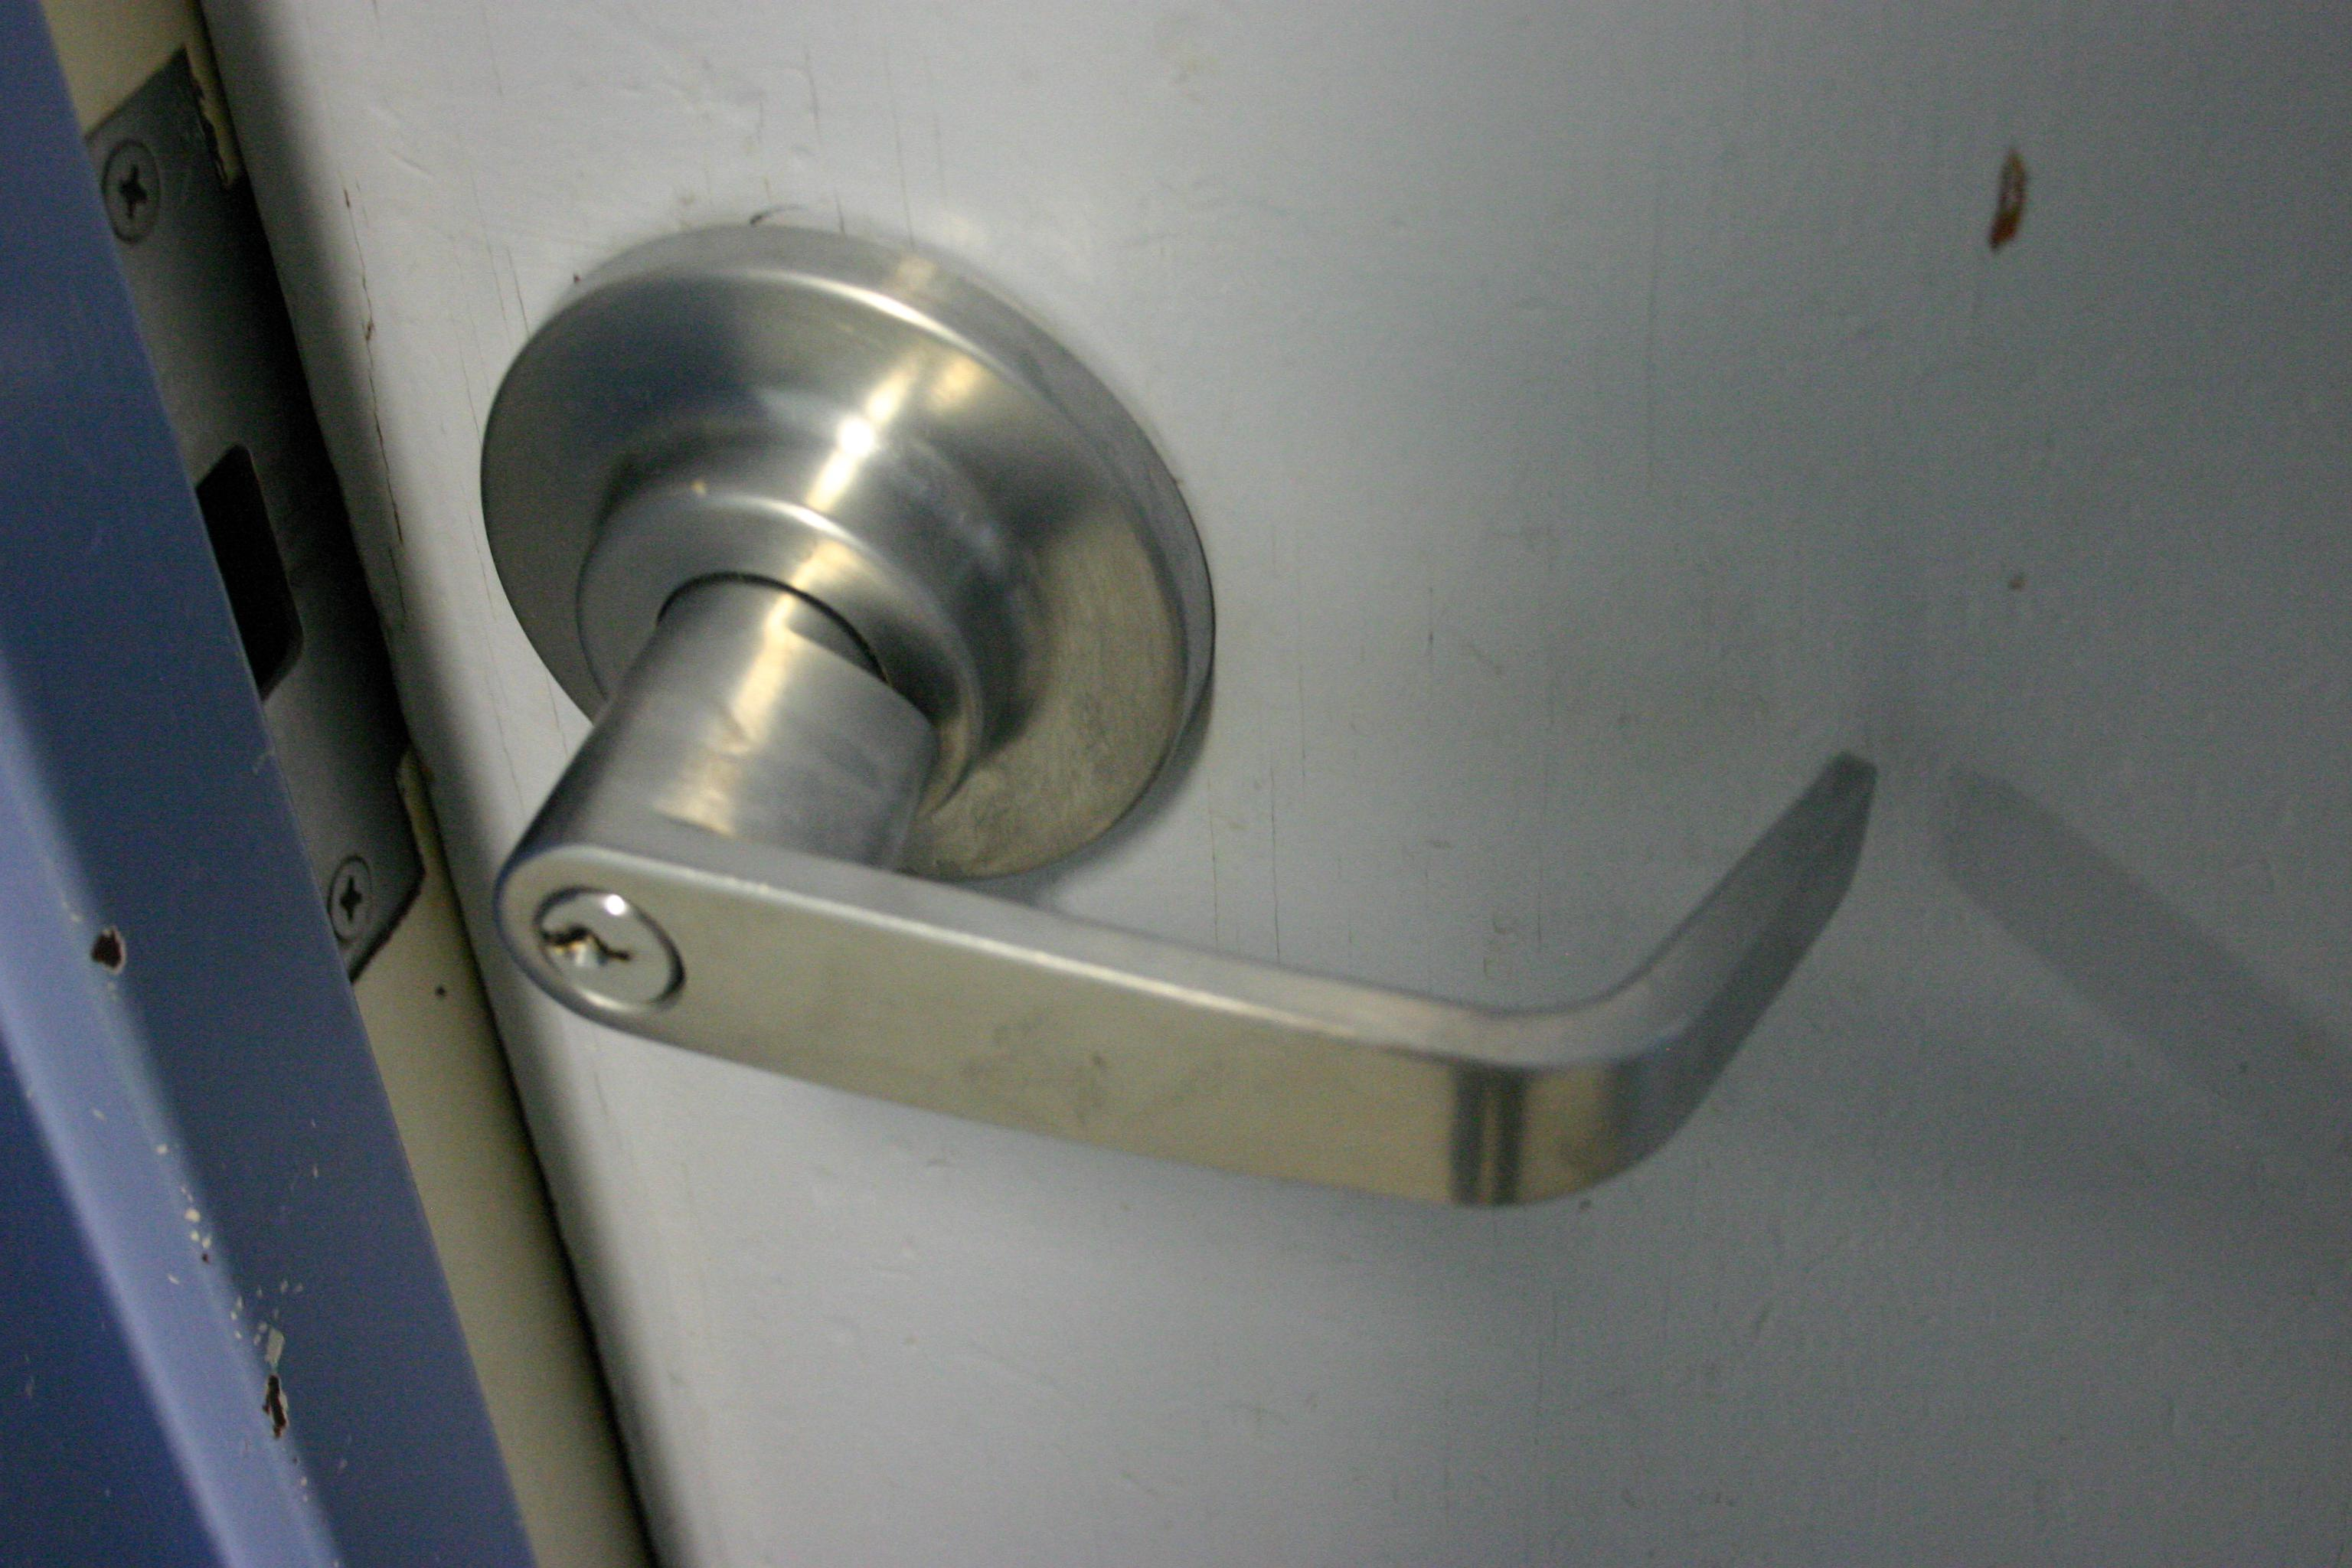doorhandle: (446, 525, 2025, 1332)
